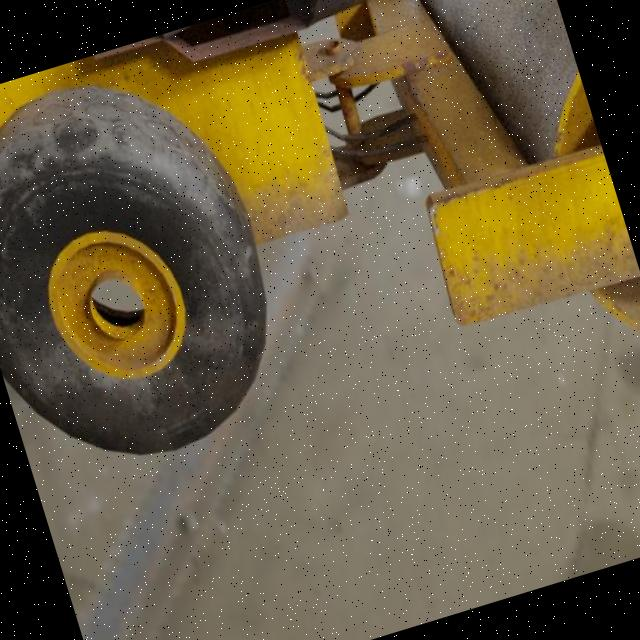Roller: (0, 0, 640, 539)
